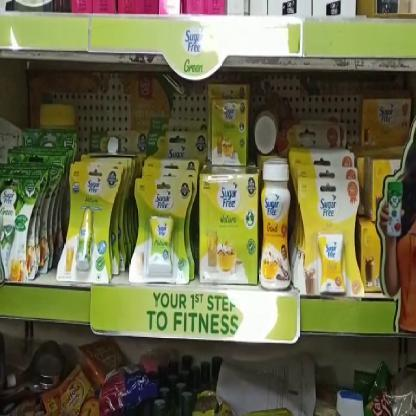SUGAR FREE GOLD 500 PELLET: (296, 178, 362, 298)
SUGAR FREE GOLD POWDER 100GM: (260, 160, 290, 289)
SUGAR FREE GRN 300 PELLET: (0, 175, 41, 280)
SUGAR FREE NATURA 500 PELLET: (128, 178, 192, 282)
SUGAR FREE NATURA SACHET 50: (200, 175, 256, 284)
SUGAR FREE NATURA SWEET DROPS: (57, 162, 110, 282)
